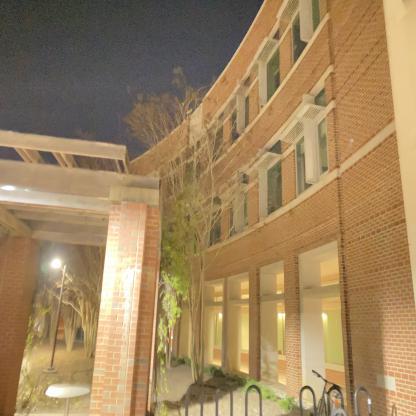eb2: (71, 46, 416, 411)
